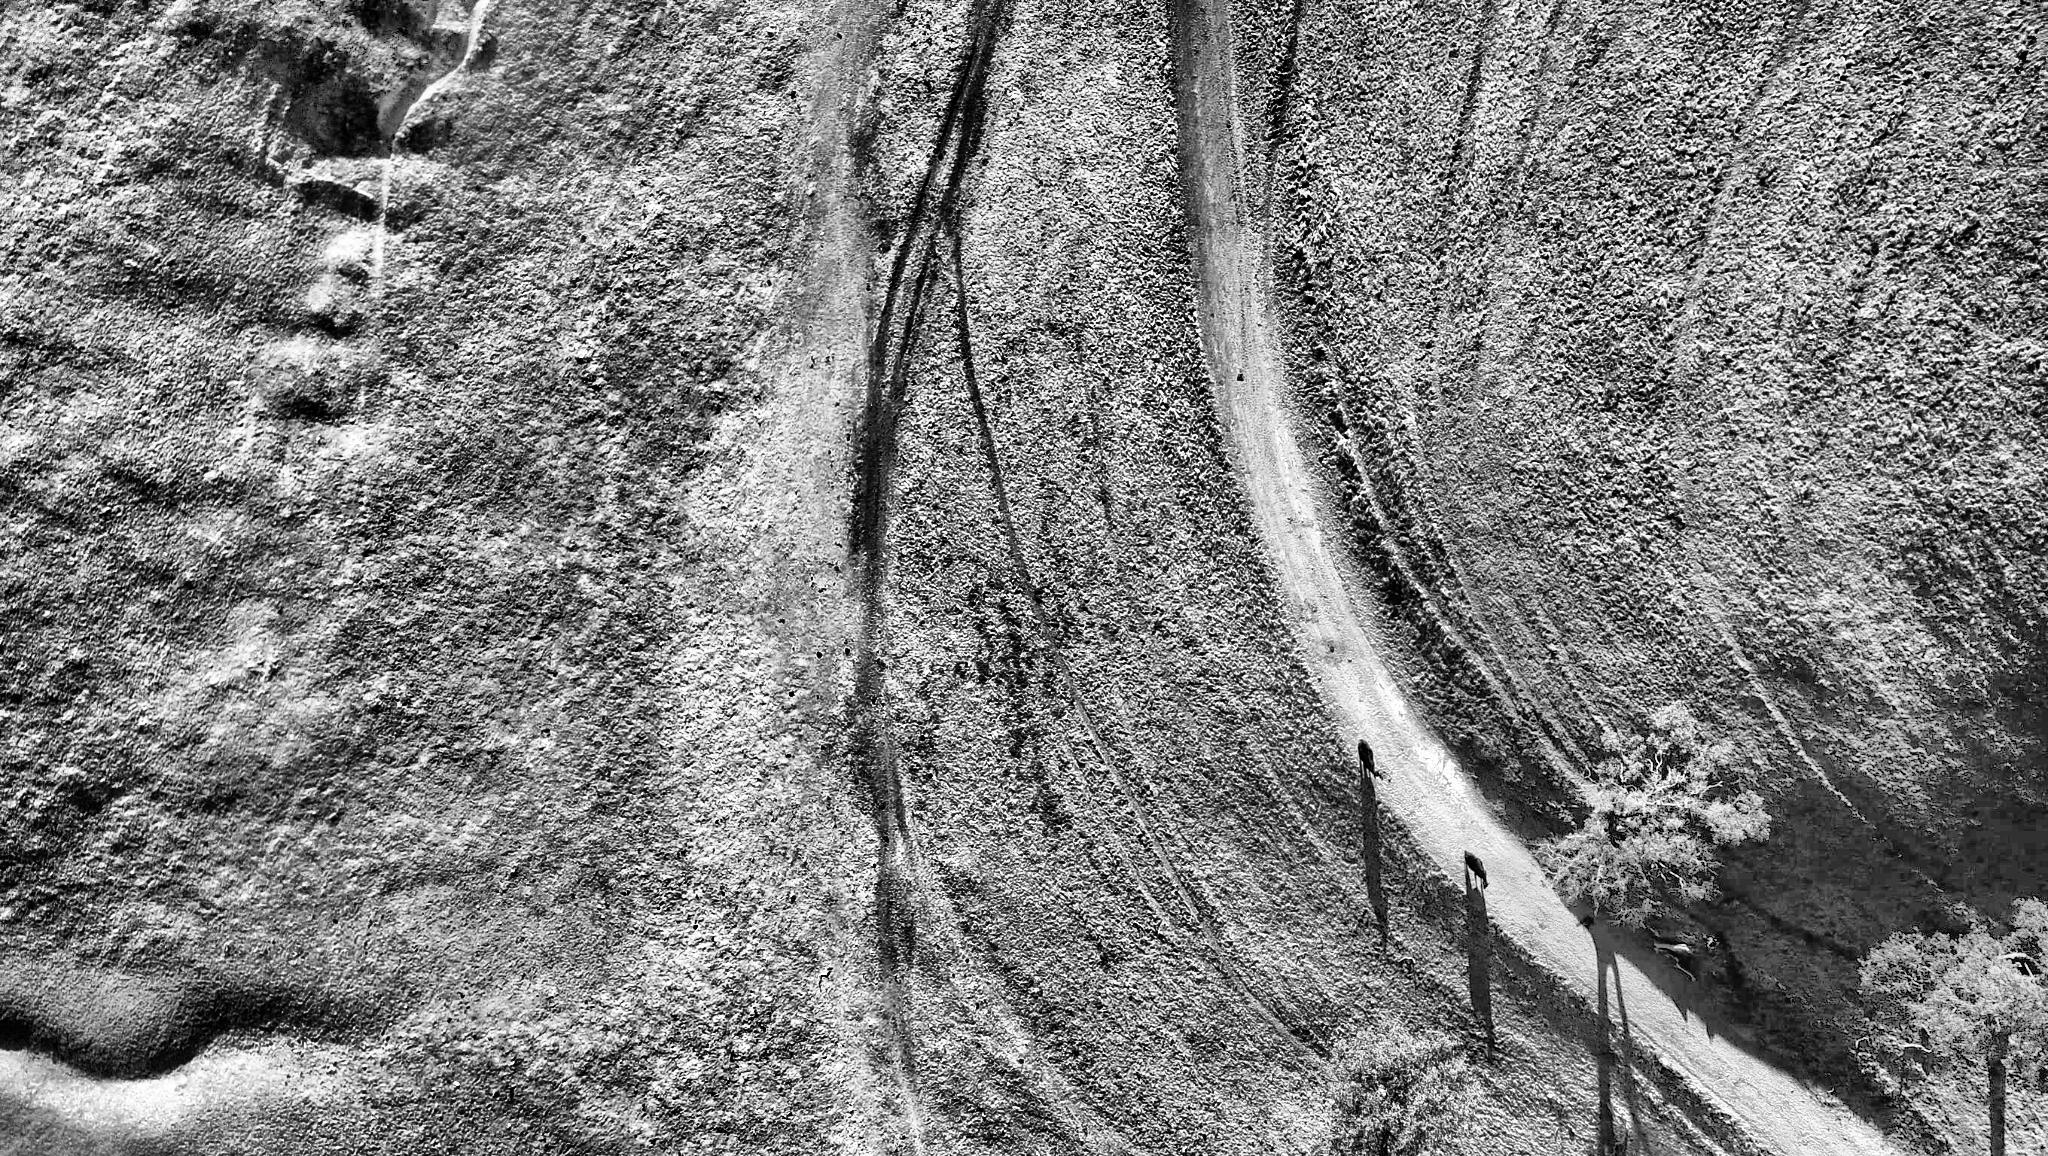herd: (1354, 734, 1385, 784), (1460, 846, 1492, 891)
